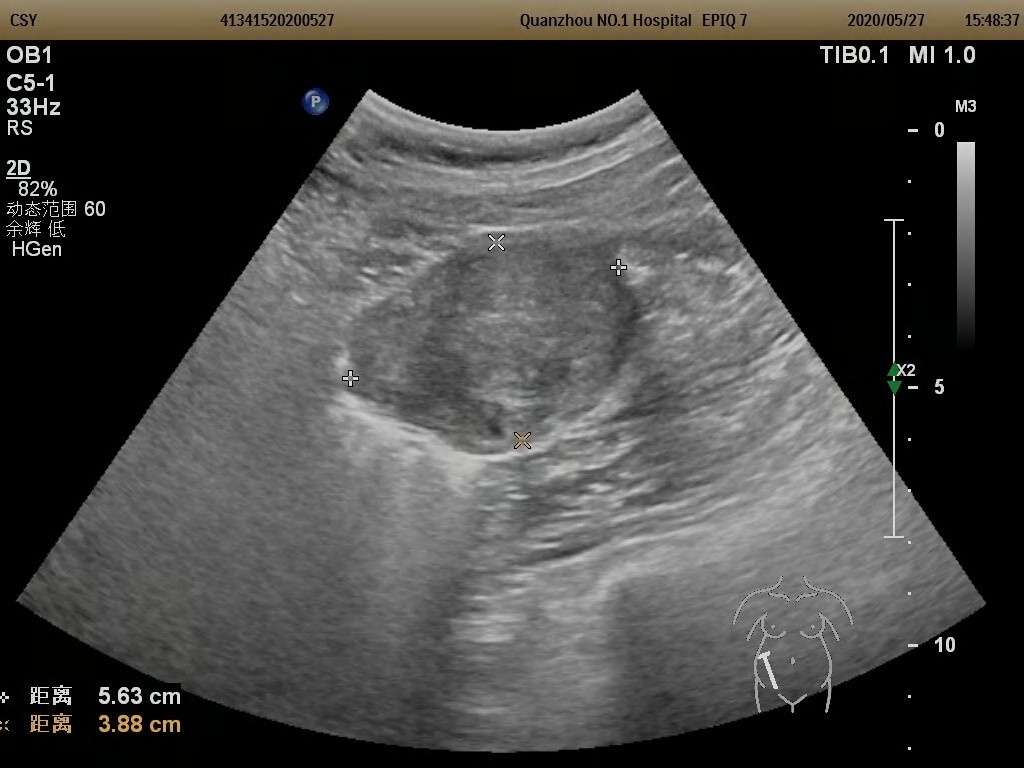肌瘤: (351, 240, 641, 439)
